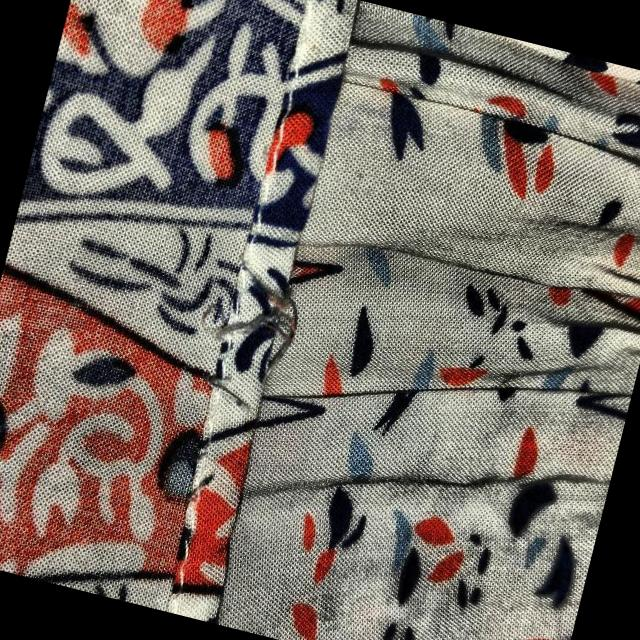gray stitch: (152, 238, 346, 466)
